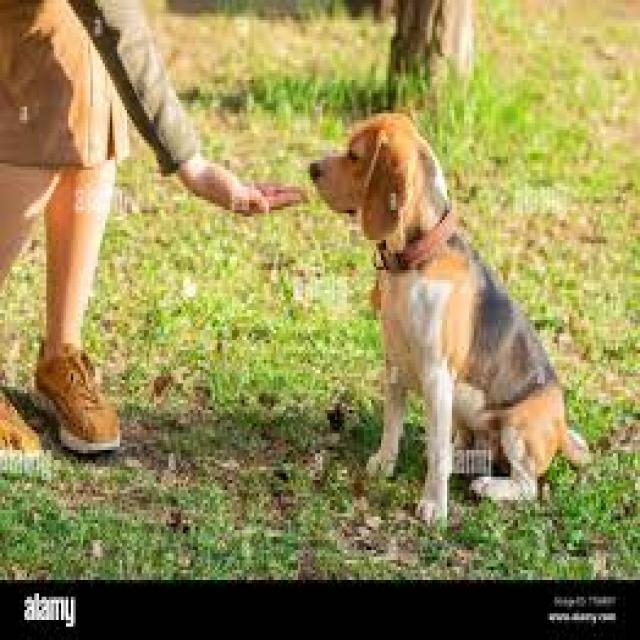Dog: (306, 107, 593, 540)
